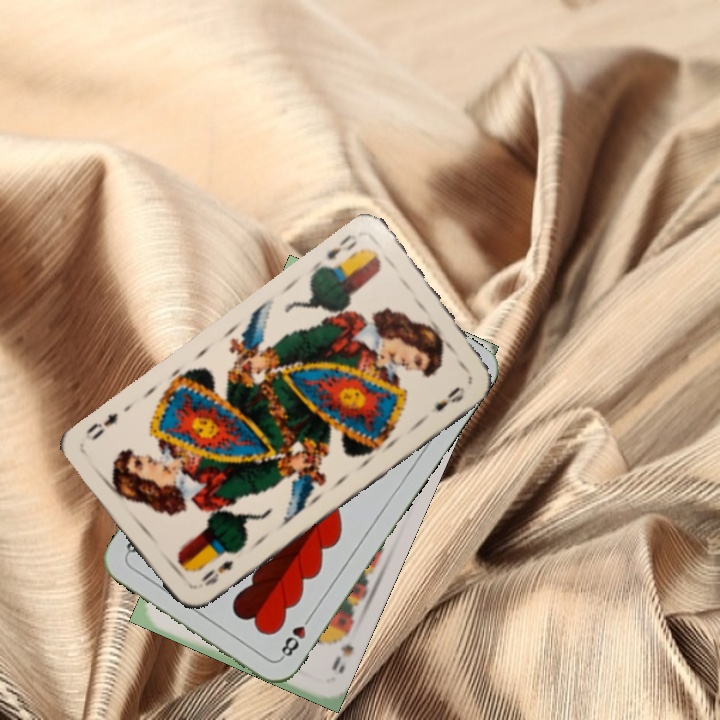EO: (313, 230, 361, 273), (196, 556, 236, 589)
H8: (276, 610, 315, 662)
S9: (328, 625, 356, 676)
